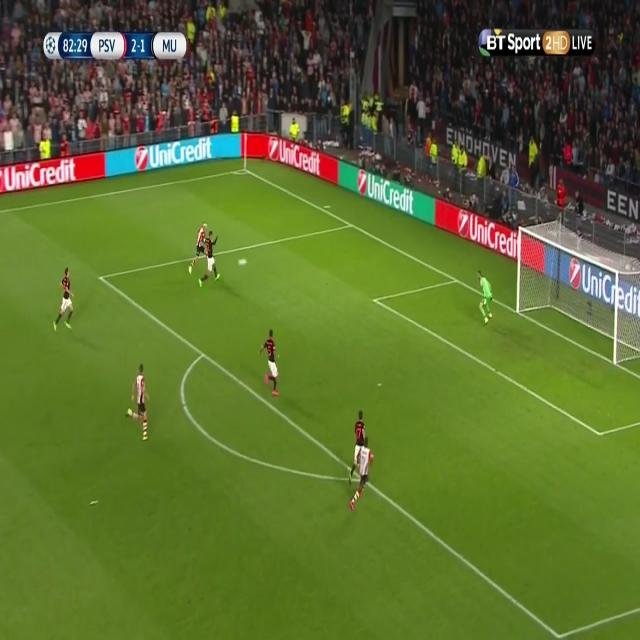Ball: (236, 254, 248, 269)
Goalkeeper: (476, 267, 496, 329)
Player: (126, 362, 152, 444), (347, 436, 373, 514), (49, 262, 76, 337), (258, 326, 282, 402), (346, 408, 366, 485), (198, 230, 222, 292), (186, 222, 209, 276)
